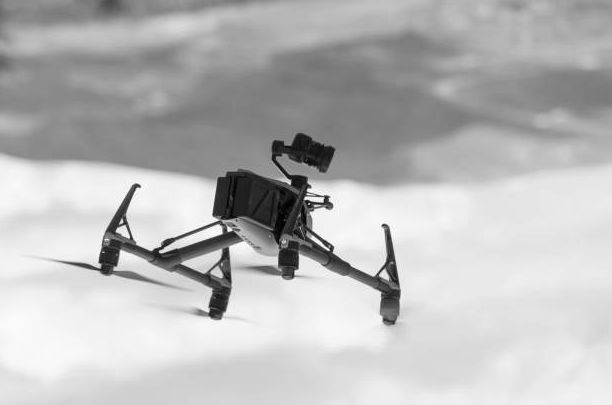Drone: (18, 130, 427, 345)
